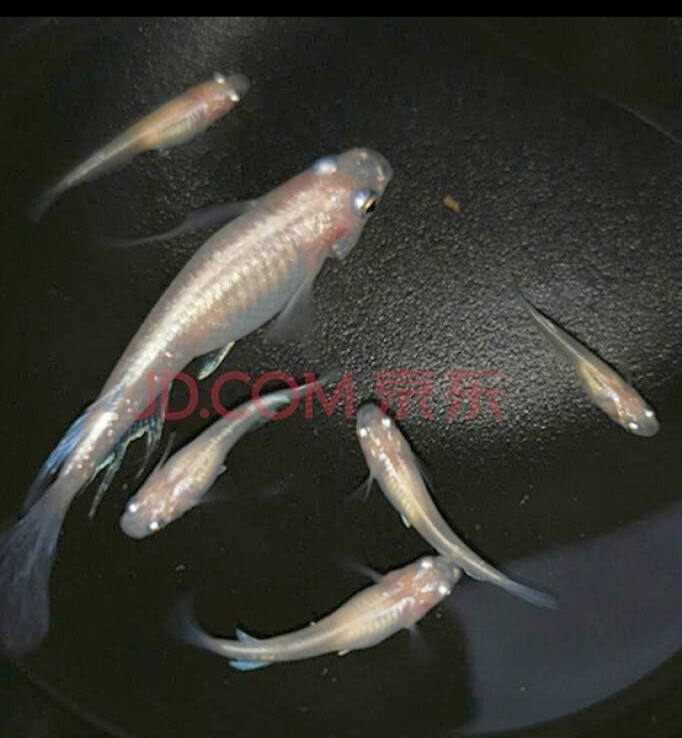fry: (122, 146, 443, 364), (7, 45, 266, 185), (204, 552, 468, 673), (317, 387, 477, 555), (547, 320, 675, 469), (109, 425, 247, 546)
